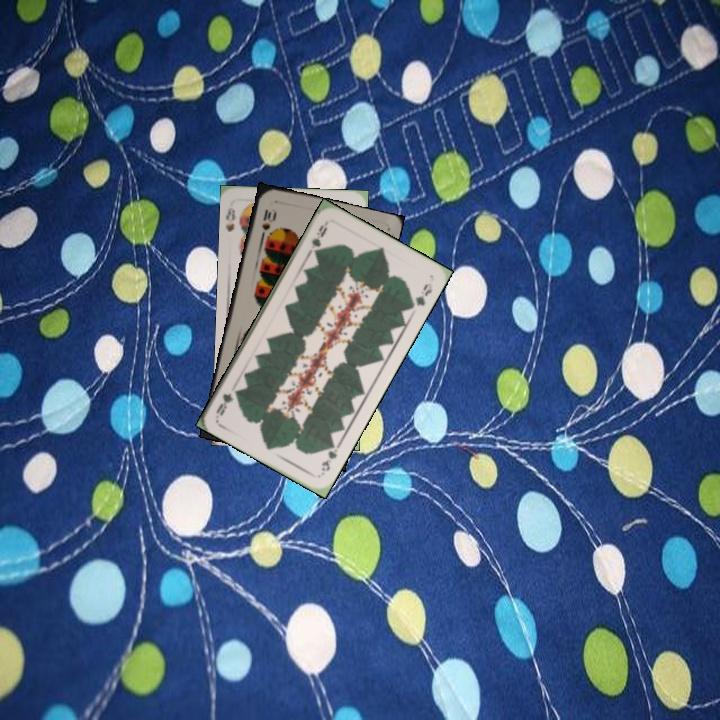G9: (317, 438, 343, 478), (305, 218, 330, 257)
S10: (257, 205, 277, 241)
S8: (222, 204, 238, 234)
